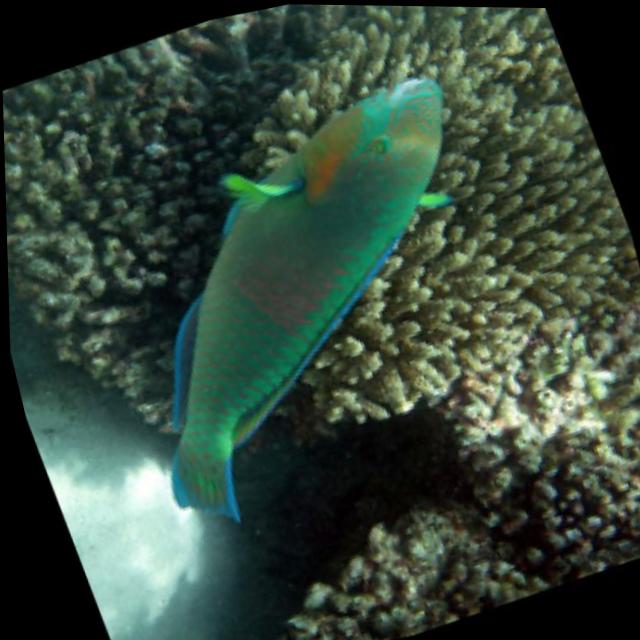Dead Coral: (0, 15, 311, 418), (198, 410, 640, 640), (3, 138, 249, 450), (0, 12, 270, 238)
